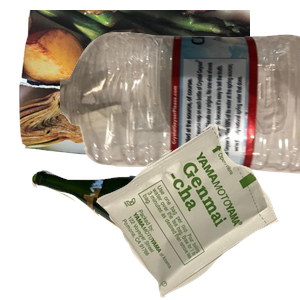glass: (29, 167, 241, 300)
paper: (16, 10, 256, 172)
plastic: (60, 30, 300, 196)
trash: (91, 124, 300, 300)
